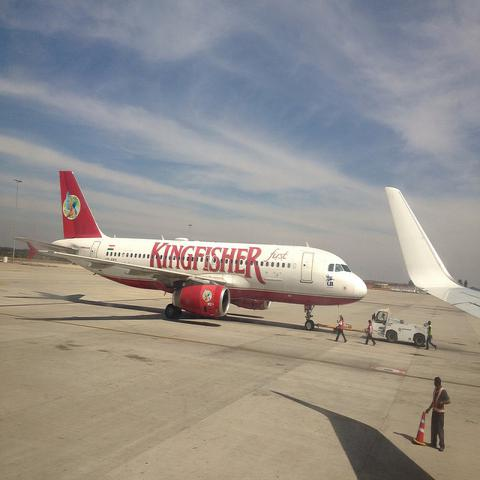truck: (371, 308, 428, 348)
